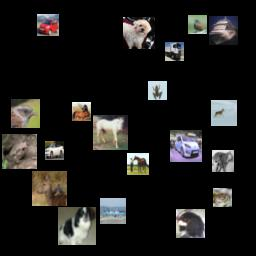airplane: (100, 198, 126, 224)
automobile: (170, 130, 202, 162), (37, 14, 59, 36), (45, 141, 64, 160)
bird: (11, 99, 40, 128), (188, 15, 207, 34)
cat: (212, 150, 234, 172)
deer: (32, 171, 67, 206), (211, 100, 237, 126)
dog: (58, 207, 96, 245), (123, 17, 155, 49), (176, 209, 205, 238)
frog: (2, 134, 37, 169), (148, 81, 167, 100), (213, 188, 232, 207)
ship: (209, 16, 238, 45)
truck: (165, 42, 184, 61)
